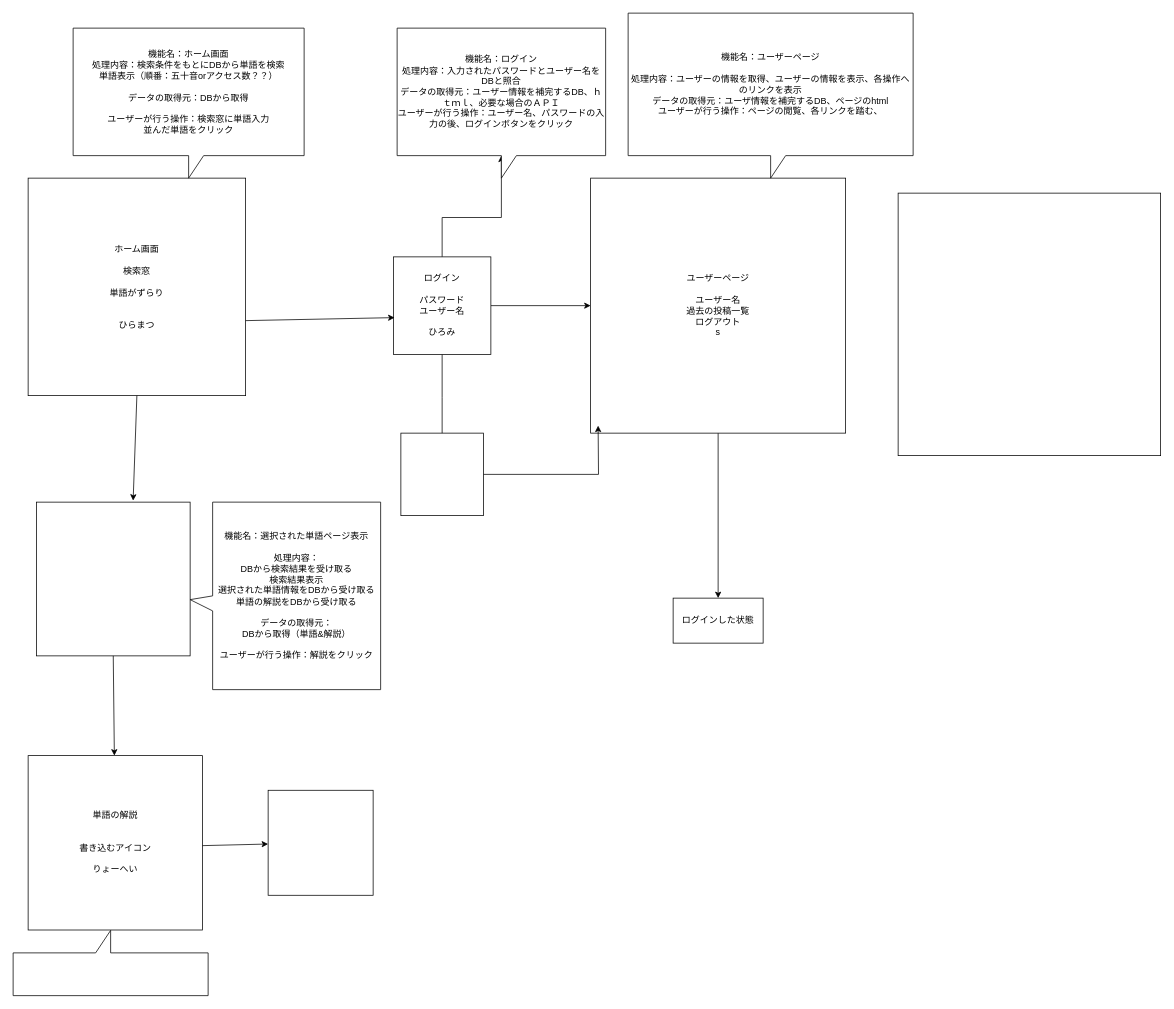
Some shapes in this 1174 by 1009 pixel diagram are drawn without their labels. Here are the shapes that lost their labels. From the top down, the centre of each, then its label:
(x=1029, y=324): 機能名 処理内容 処理に必要なデータ データの取得元 ユーザーが行い操作
(x=441, y=474): 登録画面 名前 パスワード e-mail twitter,google API
(x=113, y=578): 単語 解説 解説 解説 ひらまつ
(x=320, y=842): 解説 投稿 りょーへい
